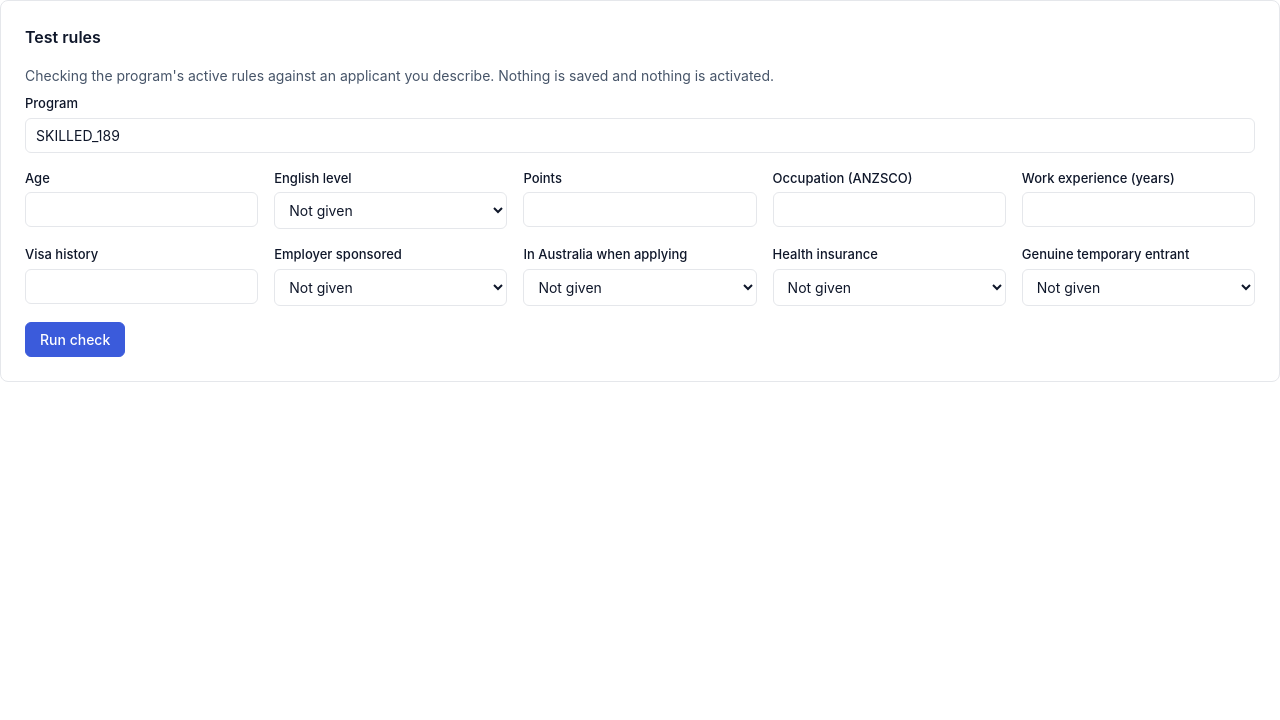
Test: RuleTestPanel › shows the verdict, each rule's result and the gaps still to ask about
Click the button "Run check": (75, 339) top-left (25, 322), bottom-right (125, 356)
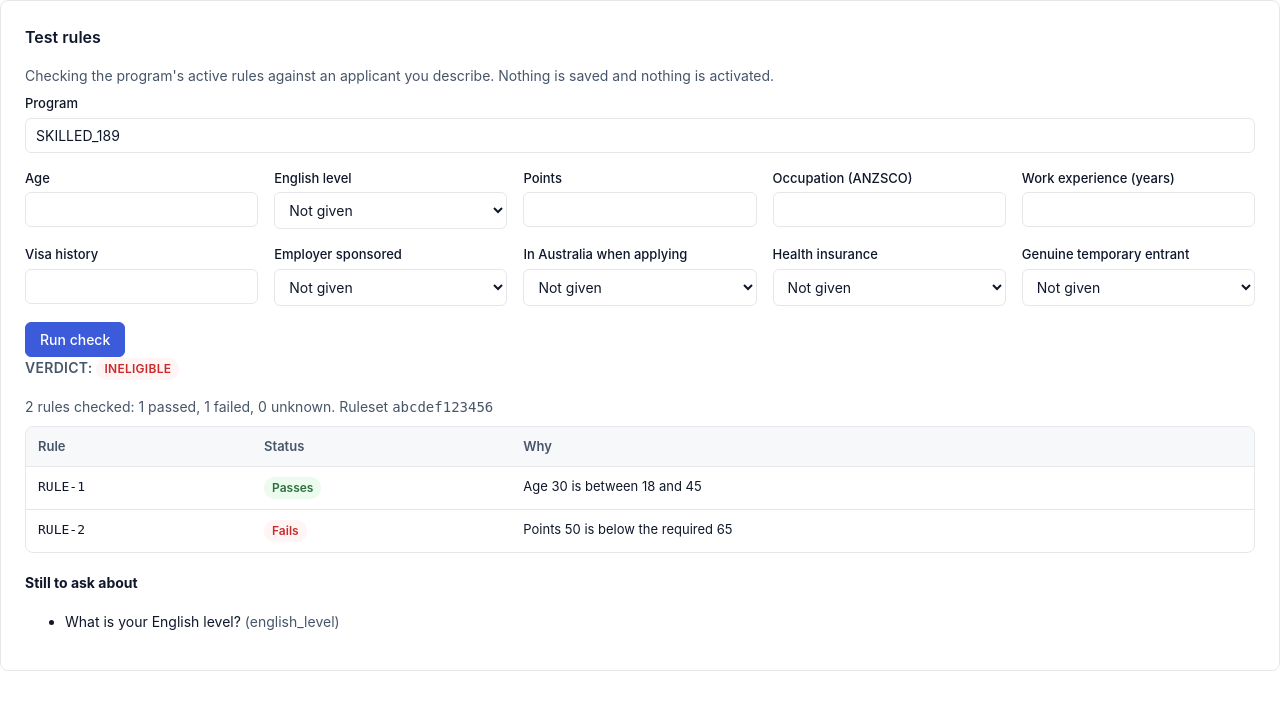
Check: the text "Ineligible" is shown, box top-left (96, 358), bottom-right (179, 380)
Check: the text "RULE-1" is shown, box top-left (38, 479), bottom-right (85, 494)
Check: the text "Age 30 is between 18 and 45" is shown, box top-left (511, 466), bottom-right (1254, 510)
